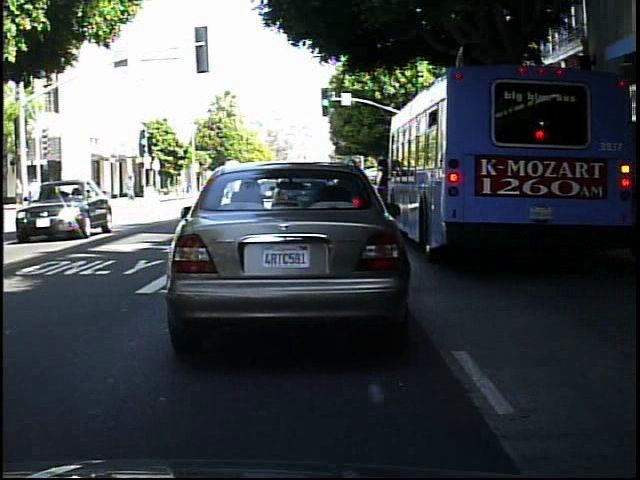person: (71, 174, 90, 213), (58, 174, 75, 214), (14, 175, 30, 217), (123, 171, 141, 205), (48, 179, 64, 215), (12, 177, 29, 210), (29, 174, 44, 201)
